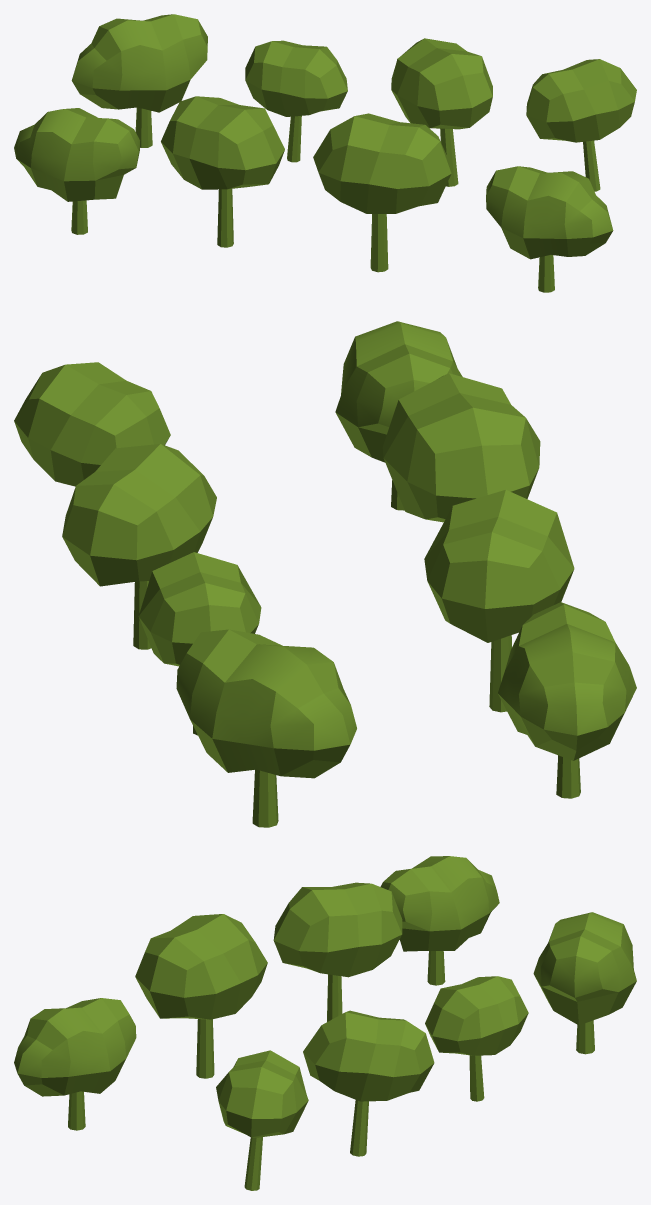
File: oliveTree_cluster_1.fbx
3 views of the same model, one above another, from view 1: azimuth 30°, elevation 25°; view 2: azimuth 150°, elevation 25°; view 3: azimuth 270°, elevation 25° (orthographic). The views are drawn at different scales.
Visible parts, largest first — view 1: oliveTree_2, oliveTree_6, oliveTree_3, oliveTree_1, oliveTree_4, oliveTree_7, oliveTree_8, oliveTree_5; view 2: oliveTree_6, oliveTree_3, oliveTree_2, oliveTree_7, oliveTree_4, oliveTree_8, oliveTree_1, oliveTree_5; view 3: oliveTree_2, oliveTree_3, oliveTree_1, oliveTree_7, oliveTree_6, oliveTree_4, oliveTree_5, oliveTree_8.
Boxes of the visible parts, <box> form: oliveTree_2: <box>313,113,451,272</box>; oliveTree_6: <box>71,14,207,147</box>; oliveTree_3: <box>161,96,284,247</box>; oliveTree_1: <box>486,166,613,292</box>; oliveTree_4: <box>14,108,139,234</box>; oliveTree_7: <box>391,38,492,186</box>; oliveTree_8: <box>526,59,636,191</box>; oliveTree_5: <box>245,40,347,162</box>; oliveTree_6: <box>176,629,356,827</box>; oliveTree_3: <box>424,489,574,712</box>; oliveTree_2: <box>382,373,540,522</box>; oliveTree_7: <box>62,444,216,649</box>; oliveTree_4: <box>497,602,636,798</box>; oliveTree_8: <box>14,362,170,486</box>; oliveTree_1: <box>335,321,462,510</box>; oliveTree_5: <box>138,552,261,735</box>; oliveTree_2: <box>135,914,267,1078</box>; oliveTree_3: <box>273,882,402,1021</box>; oliveTree_1: <box>14,998,136,1130</box>; oliveTree_7: <box>303,1010,434,1156</box>; oliveTree_6: <box>533,912,636,1054</box>; oliveTree_4: <box>380,856,499,985</box>; oliveTree_5: <box>425,976,528,1101</box>; oliveTree_8: <box>216,1050,308,1190</box>.
Size of the model in its own units: 12.15 by 3.54 by 12.53.
